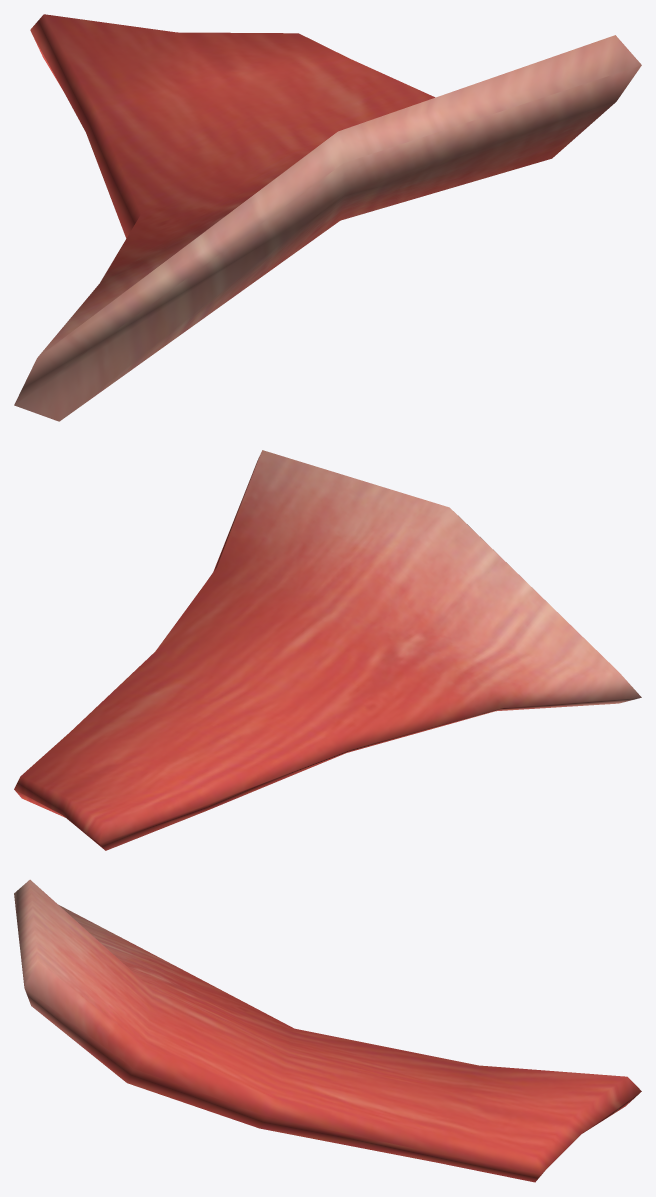
Rendered from EsternoCleidoM.fbx.
3 views of the same model, one above another, from view 1: azimuth 30°, elevation 25°; view 2: azimuth 150°, elevation 25°; view 3: azimuth 270°, elevation 25° (orthographic). The views are drawn at different scales.
Parts seen in each view (by area): view 1: EsternoCleidoM; view 2: EsternoCleidoM; view 3: EsternoCleidoM.
Boxes of the visible parts, x1,y1,x2,y2 form: EsternoCleidoM: [14, 14, 641, 421]; EsternoCleidoM: [14, 450, 641, 850]; EsternoCleidoM: [14, 879, 641, 1182].
Size of the model in its own units: 32.61 by 14.49 by 39.11.
